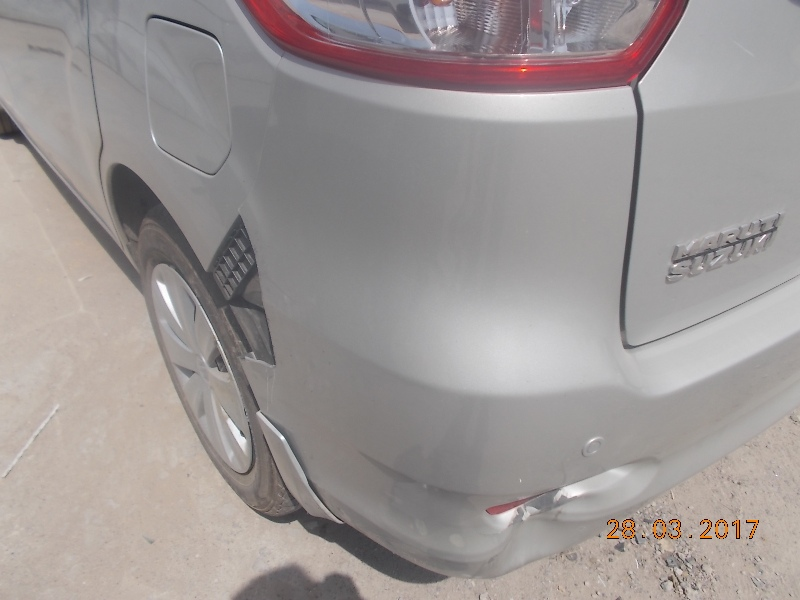Dent: (471, 514, 564, 567)
Tear: (242, 300, 284, 371), (237, 224, 268, 298)
